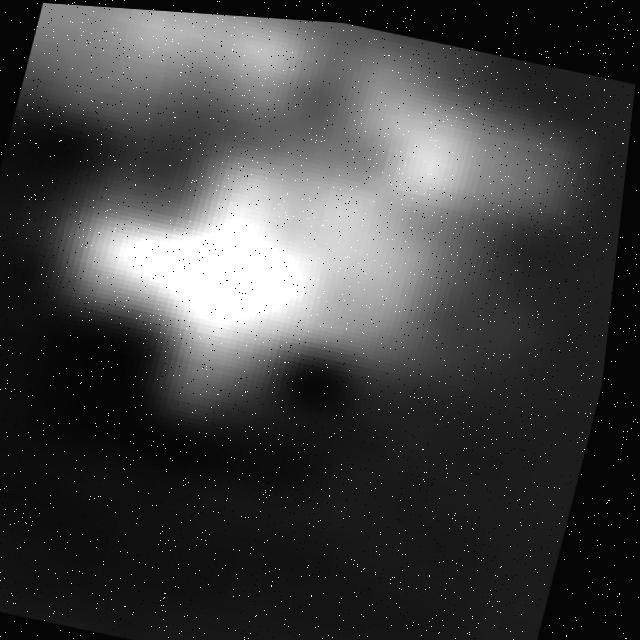person: (1, 1, 594, 468)
